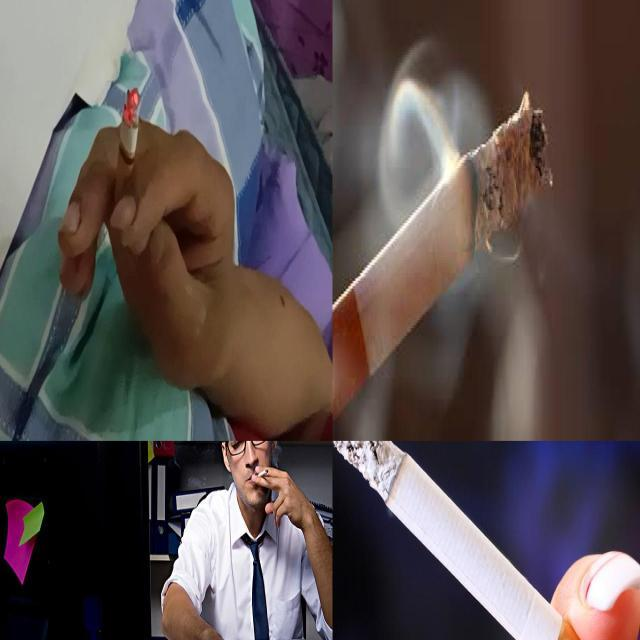smoking: (332, 92, 554, 436), (332, 441, 640, 639), (111, 86, 143, 220), (254, 467, 269, 480)
